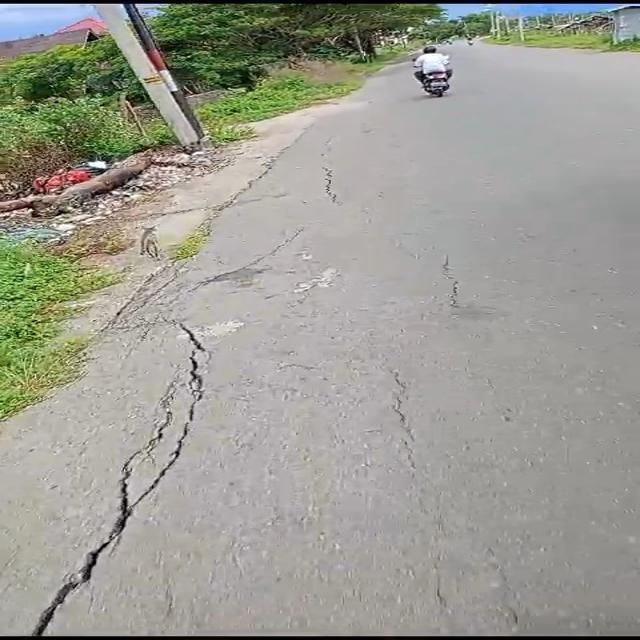Memanjang: (24, 307, 220, 638)
